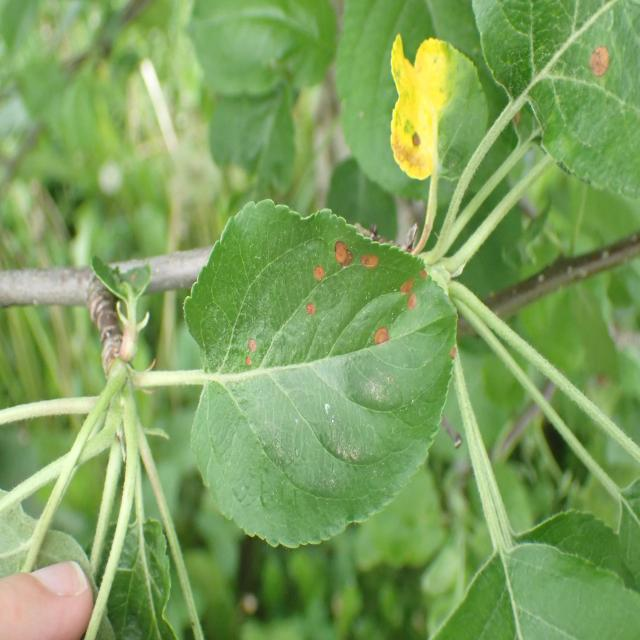frog-eye-leaf-spot: (181, 201, 461, 550), (472, 1, 640, 201), (387, 32, 490, 182)
